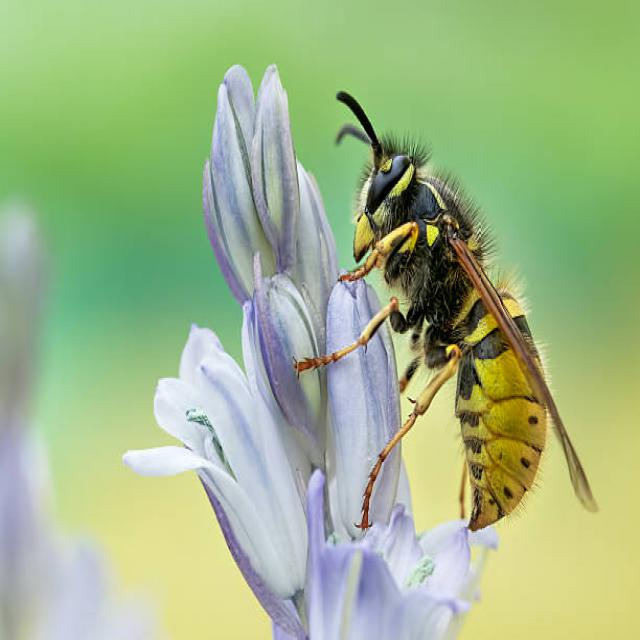Vespa Crabro: (298, 56, 619, 564), (278, 54, 603, 555)
